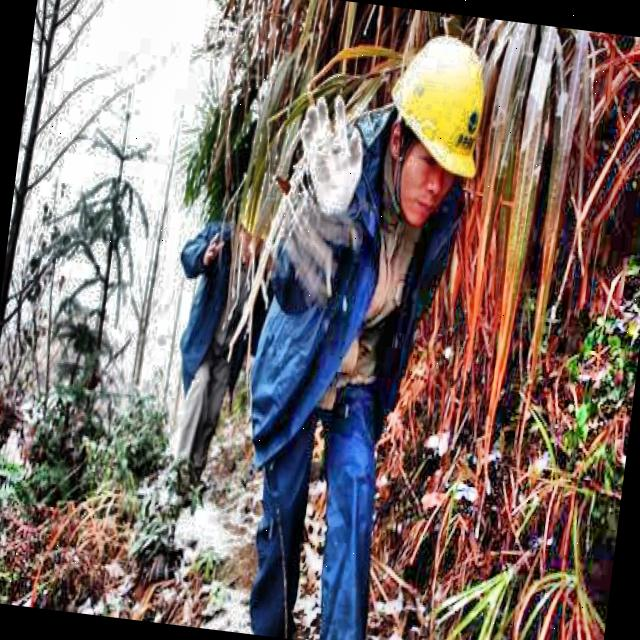helmet: (360, 8, 507, 250), (227, 181, 276, 268)
